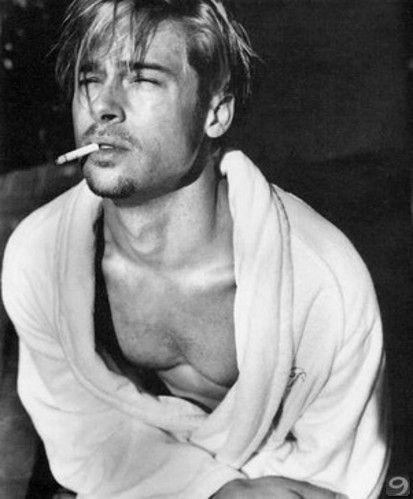cigarette: (55, 143, 101, 165)
